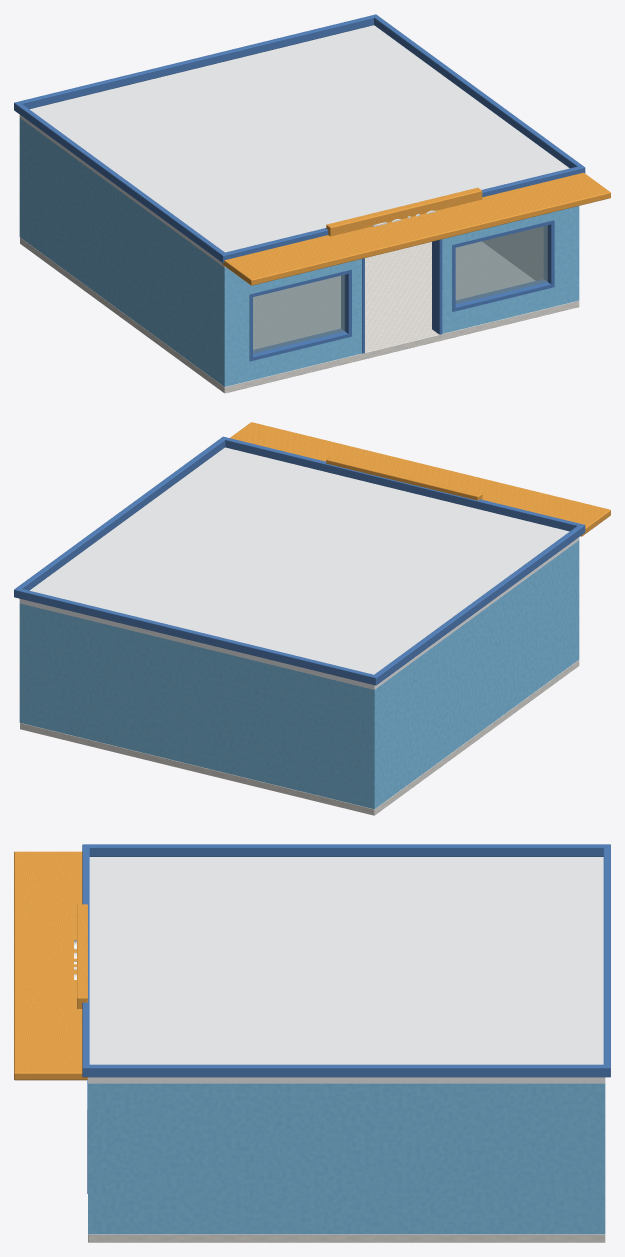
Rendered from toko_cangkang.fbx.
The picture shows the model from 3 angles, top to bottom: view 1: azimuth 30°, elevation 25°; view 2: azimuth 150°, elevation 25°; view 3: azimuth 270°, elevation 25°; orthographic projection. The views are drawn at different scales.
Visible parts, largest first — view 1: PlafonAtap, DindingLuar, Lantai, BingkaiBiruTua, KanopiPapanOranye, Kaca.001, DindingDalam; view 2: PlafonAtap, DindingLuar, BingkaiBiruTua, KanopiPapanOranye, Lantai; view 3: PlafonAtap, DindingLuar, BingkaiBiruTua, KanopiPapanOranye, Lantai.
Boxes of the visible parts, x1,y1,x2,y2 form: PlafonAtap: (19,25,569,267); DindingLuar: (19,118,579,386); Lantai: (20,237,579,393); BingkaiBiruTua: (14,14,585,361); KanopiPapanOranye: (222,172,610,285); Kaca.001: (253,225,547,353); DindingDalam: (482,227,543,280); PlafonAtap: (19,447,579,689); DindingLuar: (19,540,579,809); BingkaiBiruTua: (14,436,585,685); KanopiPapanOranye: (230,422,610,536); Lantai: (20,660,579,815); PlafonAtap: (88,857,605,1083); DindingLuar: (88,1083,605,1234); BingkaiBiruTua: (82,844,610,1193); KanopiPapanOranye: (14,851,87,1080); Lantai: (88,1234,605,1242).
Size of the model in its own units: 2860 by 1090 by 3230.
8 materials, 8 textured.
